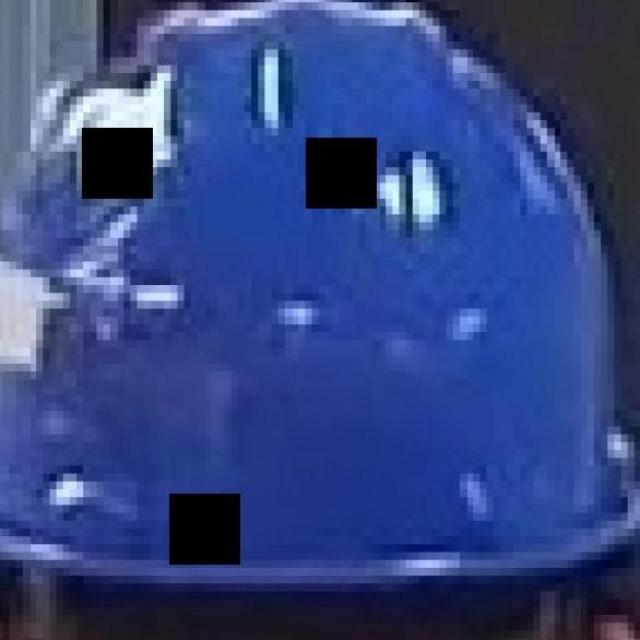blue helmet: (1, 1, 640, 615)
